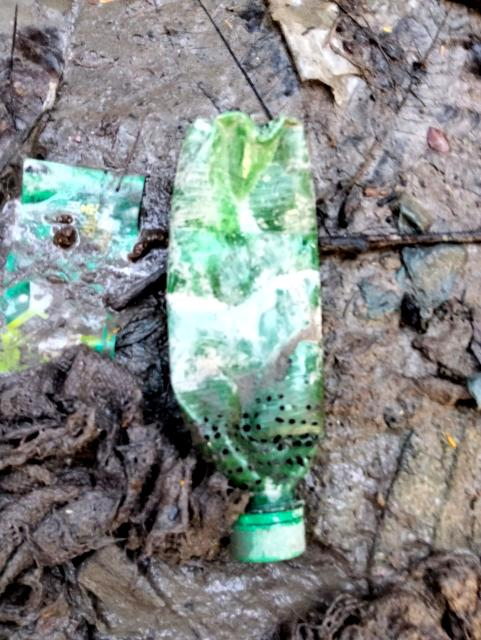bottle: (171, 104, 351, 553)
